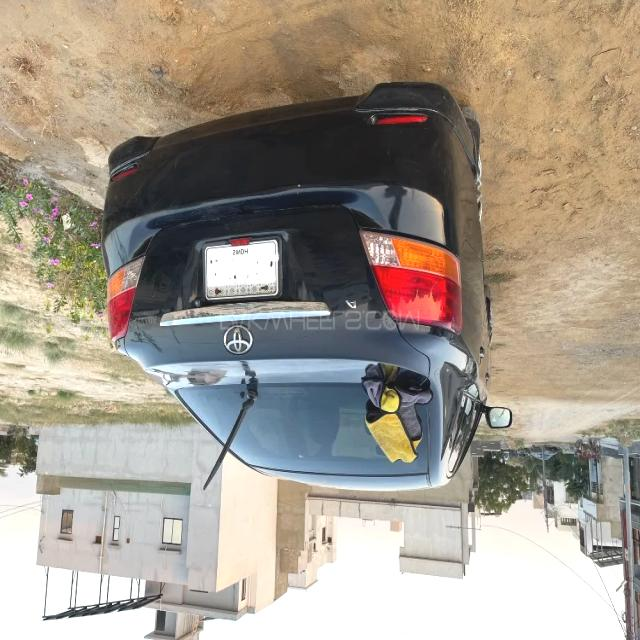black: (101, 82, 512, 489)
